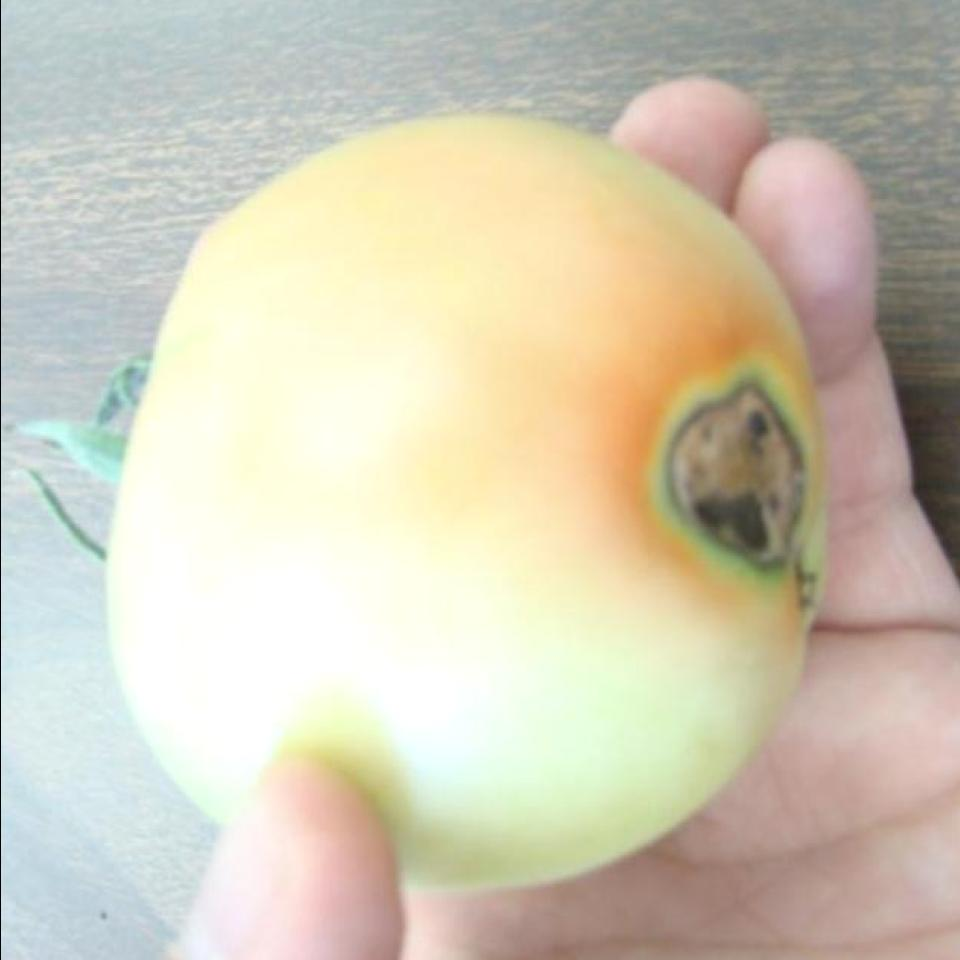Blossom_end_rot: (636, 376, 822, 631)
